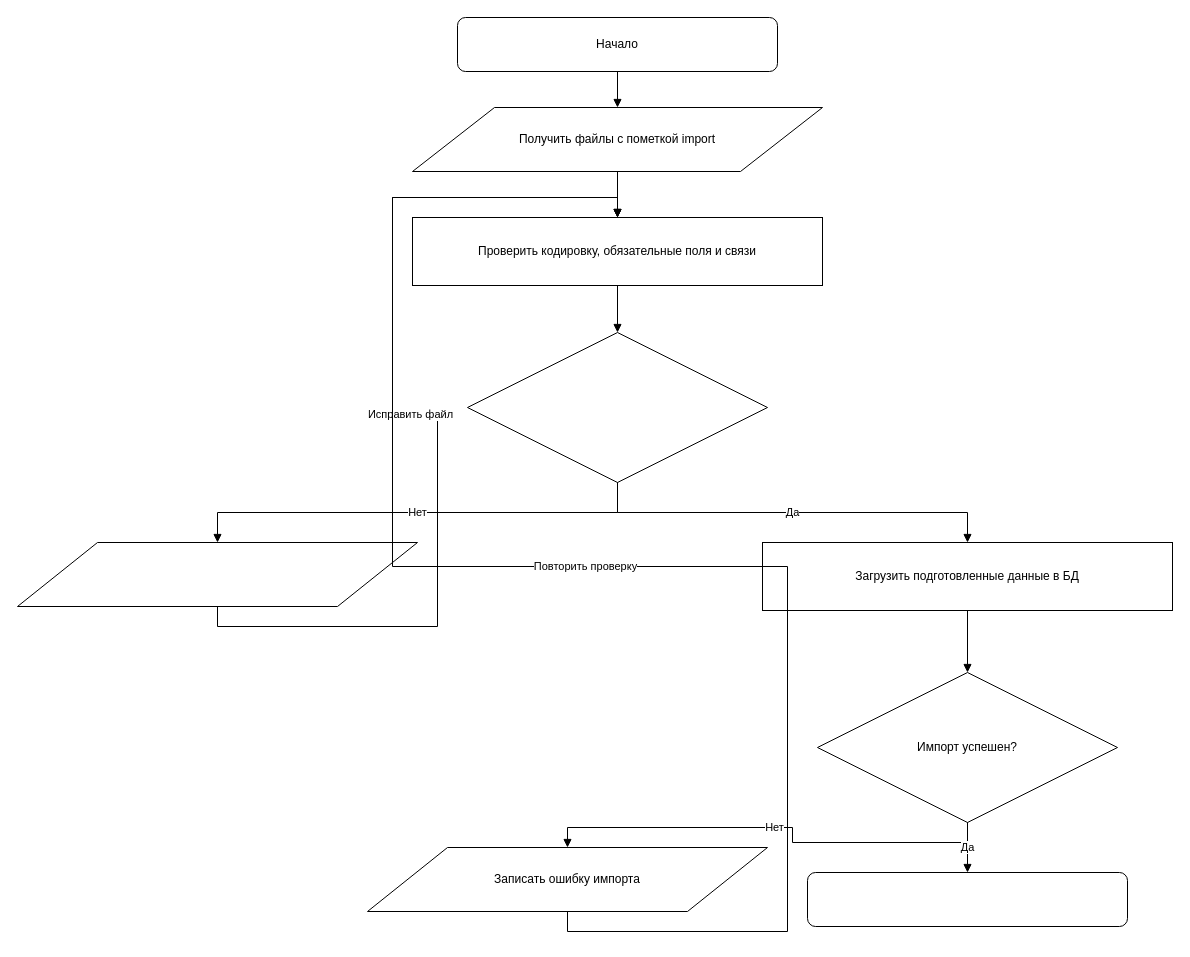
The diagram is 1190 pixels wide and 957 high, and some of its shapes have lost their labels. The shapes that lost their labels are listed below. From the top down, each one's centre as x and y in pixels, then its label:
At point 617,407: "Данные корректны?".
At point 217,574: "Показать и записать ошибки импорта".
At point 967,899: "Импорт завершён".
